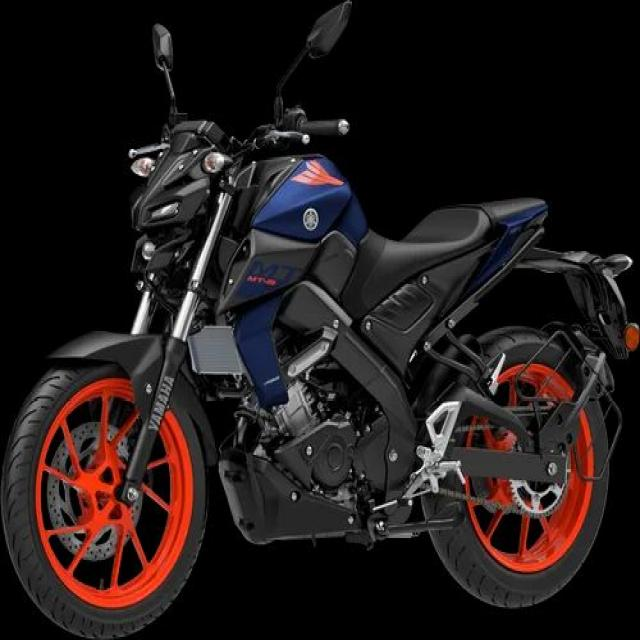Bike: (3, 45, 636, 640)
